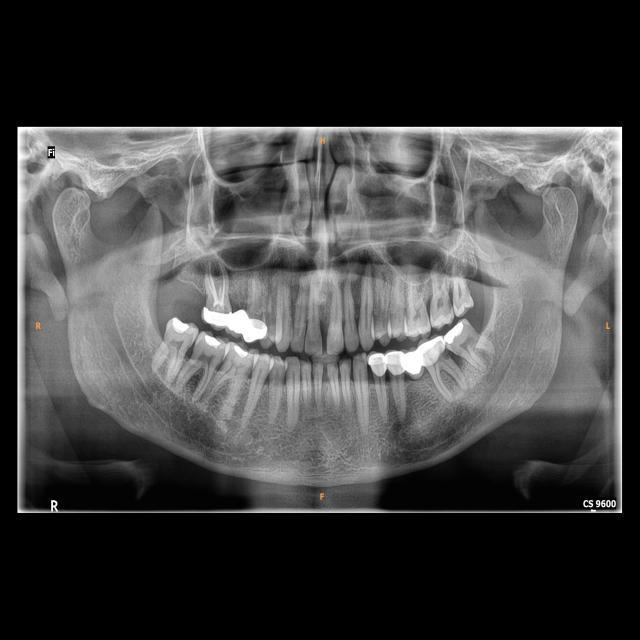dolgu: (446, 322, 470, 344), (168, 315, 192, 336), (200, 332, 222, 352), (230, 344, 251, 359)
kanal-tedavisi: (208, 269, 230, 310)
kaplama: (415, 336, 446, 362), (246, 318, 268, 344), (384, 347, 405, 374), (204, 307, 232, 327), (369, 354, 387, 376)
kopru: (400, 348, 428, 384), (226, 302, 249, 338)
